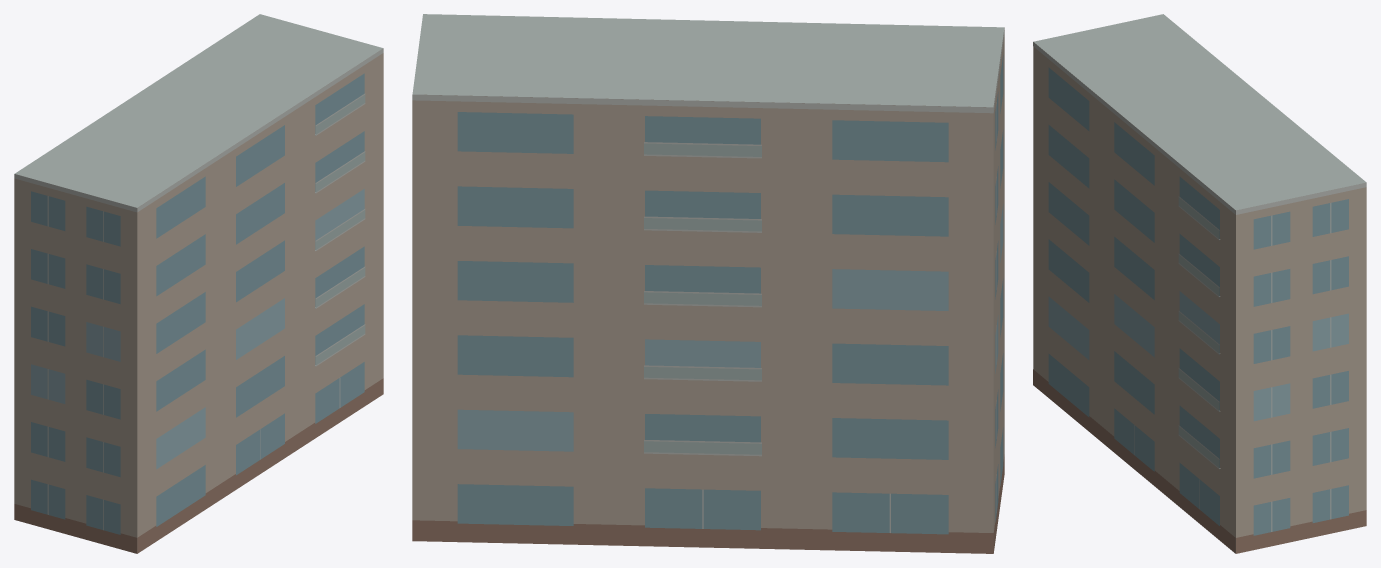
The model's file is survey-upis-32705157.glb.
The picture shows the model from 3 angles, left to right: view 1: azimuth 30°, elevation 25°; view 2: azimuth 150°, elevation 25°; view 3: azimuth 270°, elevation 25°; orthographic projection. The views are drawn at different scales.
Parts seen in each view (by area): view 1: survey-upis-32705157.tmp; view 2: survey-upis-32705157.tmp; view 3: survey-upis-32705157.tmp.
Part boxes in pixels (x1,y1,x2,y2): survey-upis-32705157.tmp: (14, 14, 383, 553); survey-upis-32705157.tmp: (412, 14, 1004, 553); survey-upis-32705157.tmp: (1033, 14, 1366, 553).
Size of the model in its own units: 22.46 by 18.3 by 16.11.
